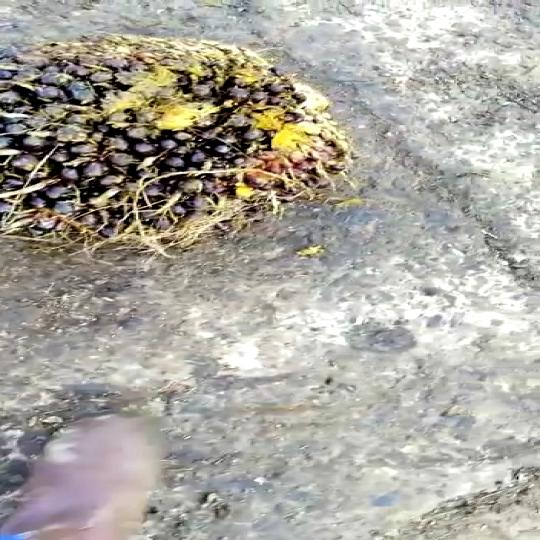mentah: (0, 19, 360, 244)
